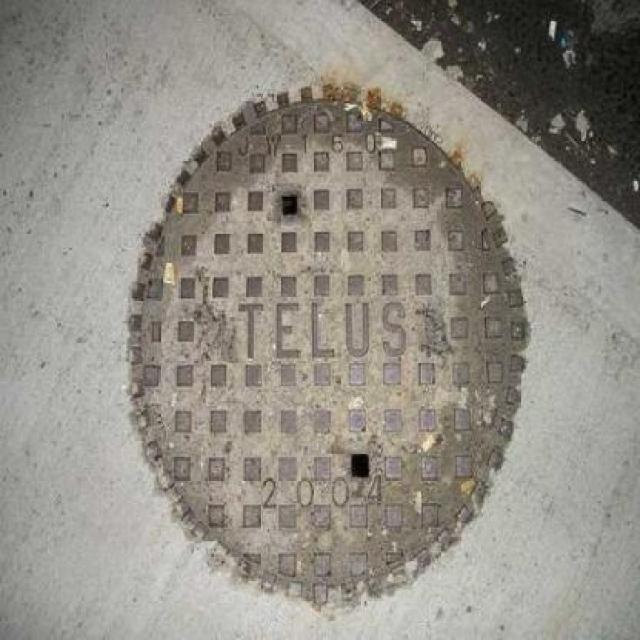Manhole: (110, 82, 552, 615)
